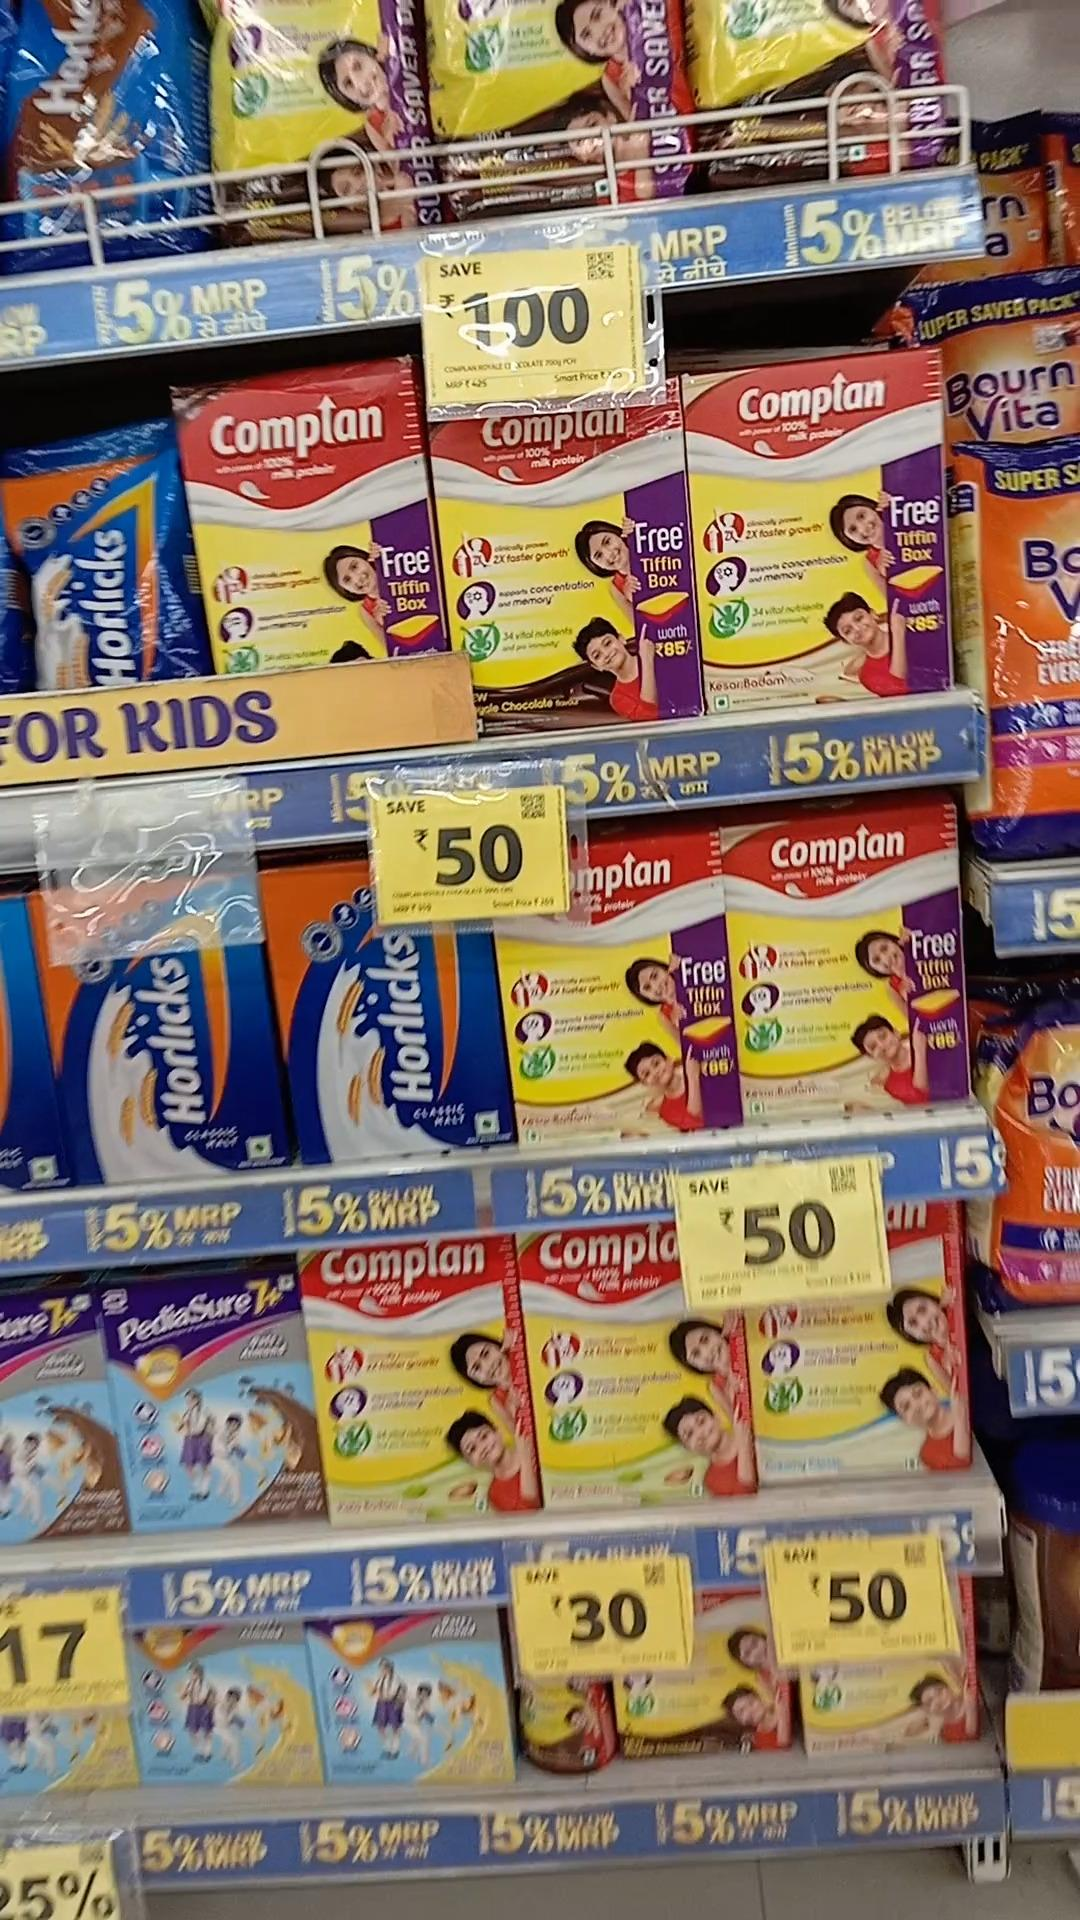COMPLAN_CHOCOLATE_500_GMS_PACK: (438, 393, 679, 735), (190, 369, 425, 662)
COMPLAN_KESAR_BADAM_500_GMS_PACK: (687, 352, 953, 709), (733, 811, 968, 1110), (504, 831, 729, 1138)
COMPLAN_PISTA_BADAM_500_GMS_PACK: (530, 1229, 753, 1516), (310, 1241, 526, 1518)
HORLICK_CLASSIC_MALT_500_G_PACK: (51, 874, 269, 1176), (284, 853, 495, 1155)
